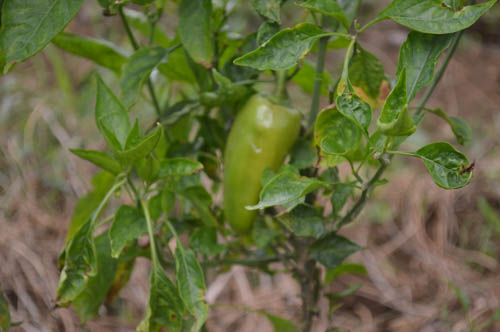ChiliPepper: (220, 97, 302, 233)
